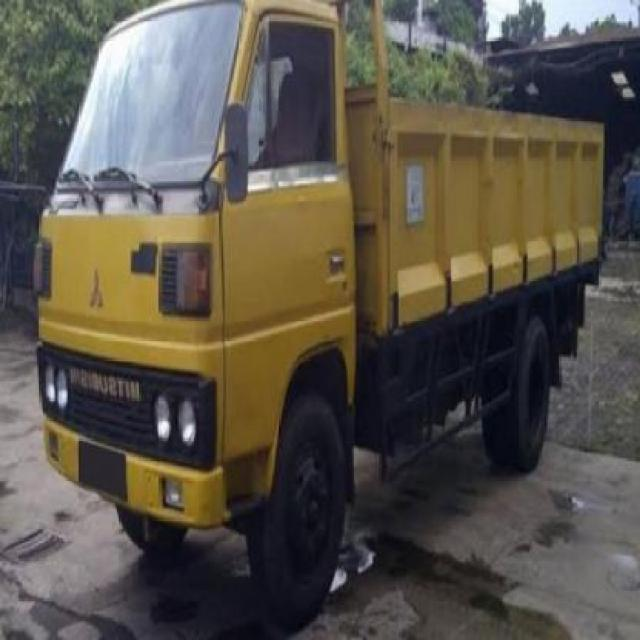truck: (32, 1, 606, 592)
